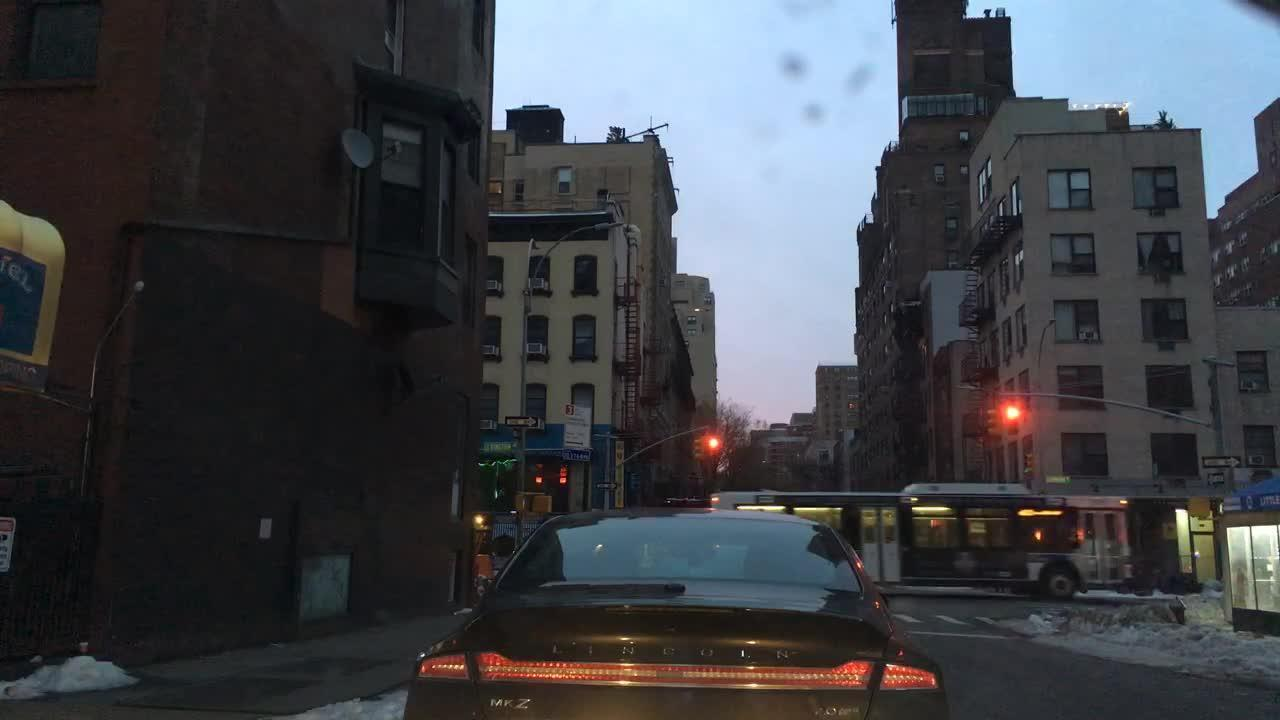lincoln: (550, 642, 792, 661)
